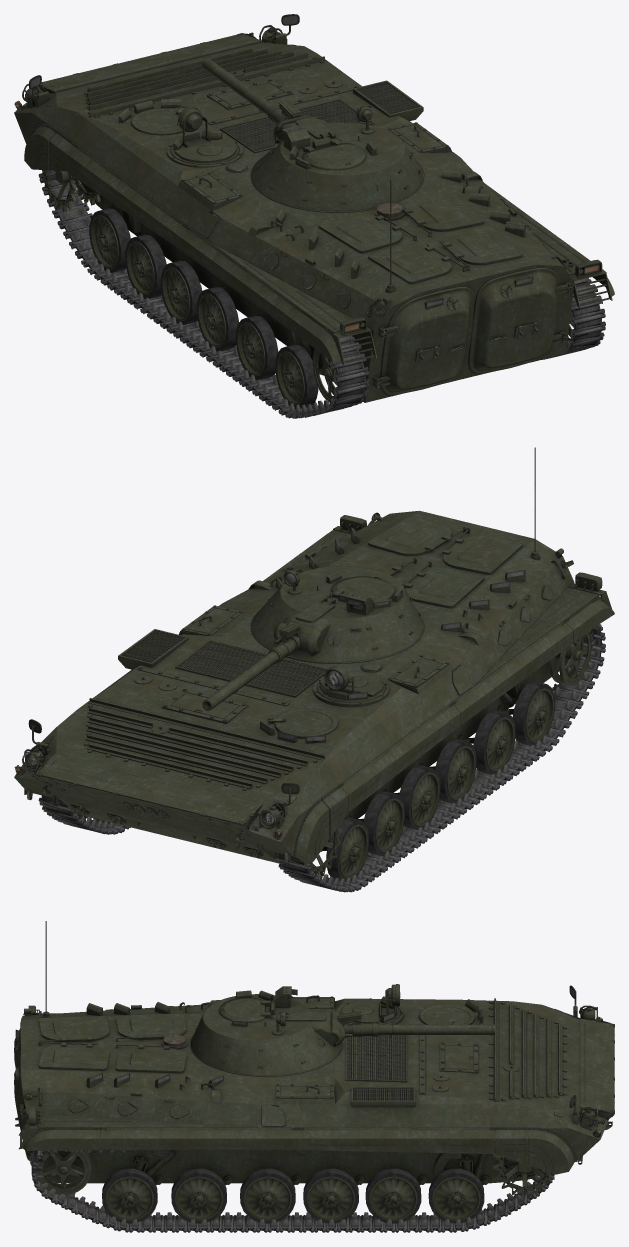
File: bmp1.glb
3 renders of one model, top to bottom at view 1: azimuth 30°, elevation 25°; view 2: azimuth 150°, elevation 25°; view 3: azimuth 270°, elevation 25°, orthographic. The views are drawn at different scales.
Visible parts, largest first — view 1: V_bmp1__Body_4, V_bmp1__Body_5, V_bmp1__Body_2, V_bmp1__Turret_1, V_bmp1__Body_9, V_bmp1__Body_8, V_bmp1__Body_6, V_bmp1__Body_1, V_bmp1__W09_1, V_bmp1__W08_1, V_bmp1__W12_1, V_bmp1__W01_1 (+5 smaller); view 2: V_bmp1__Body_4, V_bmp1__Body_5, V_bmp1__Turret_1, V_bmp1__Body_8, V_bmp1__Body_9, V_bmp1__Body_6, V_bmp1__Body_1, V_bmp1__Body_2, V_bmp1__Gun_1, V_bmp1__W12_1, V_bmp1__W09_1, V_bmp1__W08_1 (+4 smaller); view 3: V_bmp1__Body_4, V_bmp1__Body_5, V_bmp1__Body_8, V_bmp1__Turret_1, V_bmp1__Body_9, V_bmp1__Body_6, V_bmp1__Body_1, V_bmp1__Body_2, V_bmp1__W07_1, V_bmp1__W06_1, V_bmp1__W03_1, V_bmp1__W10_1 (+6 smaller).
Part boxes in pixels (bbox=[...]): V_bmp1__Body_4: bbox=[14, 42, 574, 402]; V_bmp1__Body_5: bbox=[22, 14, 610, 363]; V_bmp1__Body_2: bbox=[131, 108, 561, 395]; V_bmp1__Turret_1: bbox=[251, 105, 423, 211]; V_bmp1__Body_9: bbox=[38, 147, 605, 418]; V_bmp1__Body_8: bbox=[24, 123, 614, 363]; V_bmp1__Body_6: bbox=[14, 25, 602, 389]; V_bmp1__Body_1: bbox=[41, 33, 612, 365]; V_bmp1__W09_1: bbox=[236, 315, 278, 380]; V_bmp1__W08_1: bbox=[196, 287, 239, 351]; V_bmp1__W12_1: bbox=[275, 344, 318, 408]; V_bmp1__W01_1: bbox=[89, 208, 130, 272]; V_bmp1__Body_4: bbox=[14, 510, 574, 863]; V_bmp1__Body_5: bbox=[22, 448, 602, 858]; V_bmp1__Turret_1: bbox=[251, 566, 423, 662]; V_bmp1__Body_8: bbox=[24, 534, 614, 863]; V_bmp1__Body_9: bbox=[38, 624, 605, 892]; V_bmp1__Body_6: bbox=[14, 447, 573, 862]; V_bmp1__Body_1: bbox=[36, 526, 612, 824]; V_bmp1__Body_2: bbox=[274, 672, 389, 738]; V_bmp1__Gun_1: bbox=[202, 621, 320, 710]; V_bmp1__W12_1: bbox=[512, 681, 555, 745]; V_bmp1__W09_1: bbox=[473, 710, 515, 774]; V_bmp1__W08_1: bbox=[435, 739, 476, 803]; V_bmp1__Body_4: bbox=[21, 997, 614, 1183]; V_bmp1__Body_5: bbox=[14, 921, 612, 1178]; V_bmp1__Body_8: bbox=[22, 1127, 577, 1174]; V_bmp1__Turret_1: bbox=[191, 986, 341, 1075]; V_bmp1__Body_9: bbox=[31, 1128, 554, 1232]; V_bmp1__Body_6: bbox=[14, 921, 614, 1177]; V_bmp1__Body_1: bbox=[18, 1013, 613, 1149]; V_bmp1__Body_2: bbox=[14, 999, 474, 1160]; V_bmp1__W07_1: bbox=[240, 1168, 295, 1223]; V_bmp1__W06_1: bbox=[303, 1168, 358, 1223]; V_bmp1__W03_1: bbox=[365, 1168, 421, 1223]; V_bmp1__W10_1: bbox=[171, 1168, 226, 1223].
Bounding box in the file's own units: 8.48 × 7.25 × 17.72.
Materials: 13 (13 with a texture image).
